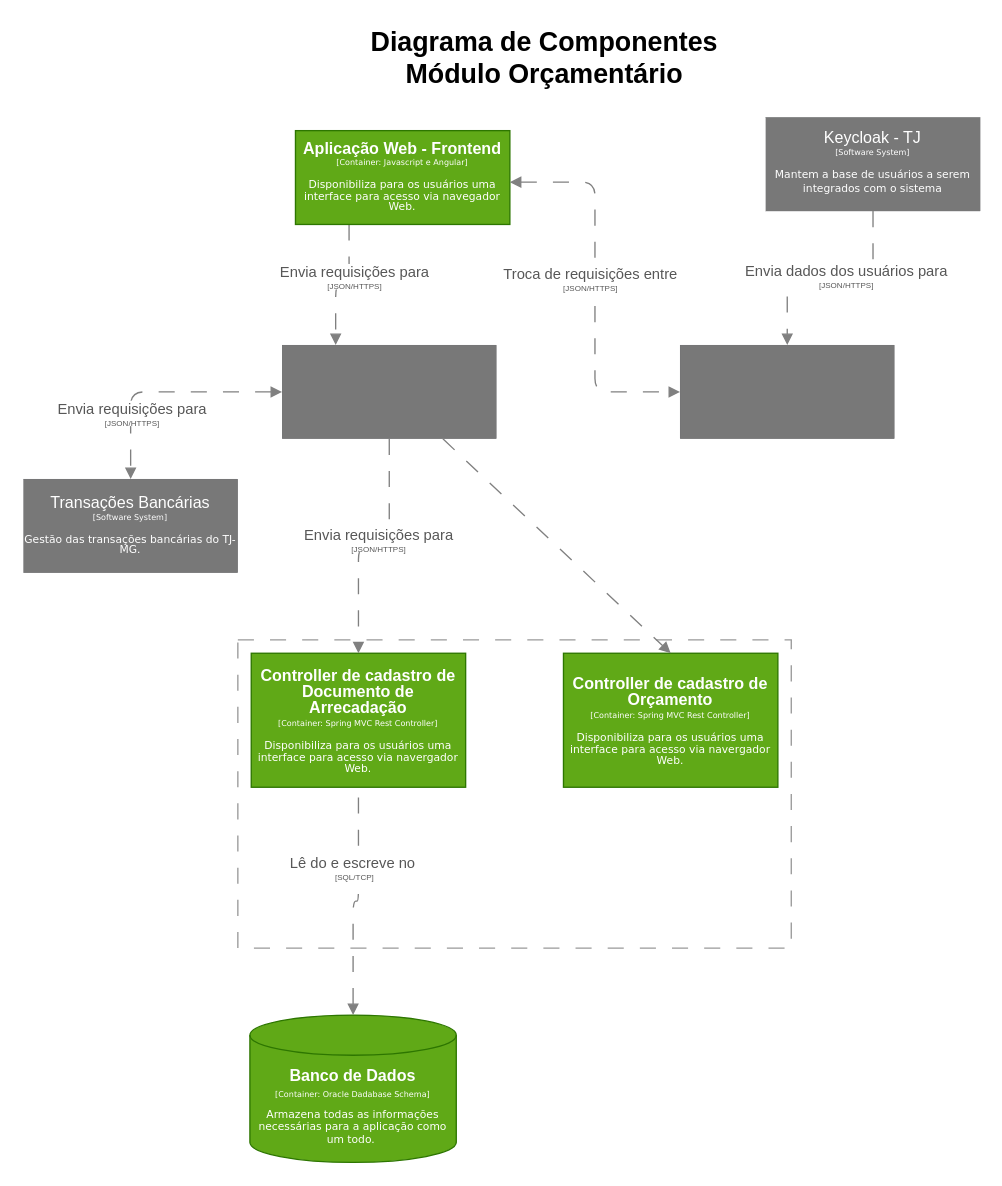
The diagram is 1002 pixels wide and 1186 high, and some of its shapes have lost their labels. The box of each missing label's shape, as (x1, y1, x2, y2) in pixels:
API Orçamento - Backend [Component]: (237, 639, 791, 948)
MG- API [Software System] Faz toda a gestão de acesso à API.: (281, 344, 496, 438)
SSC [Software System] Faz a gestão de acesso de usuários à aplicação Web.: (679, 344, 894, 438)
